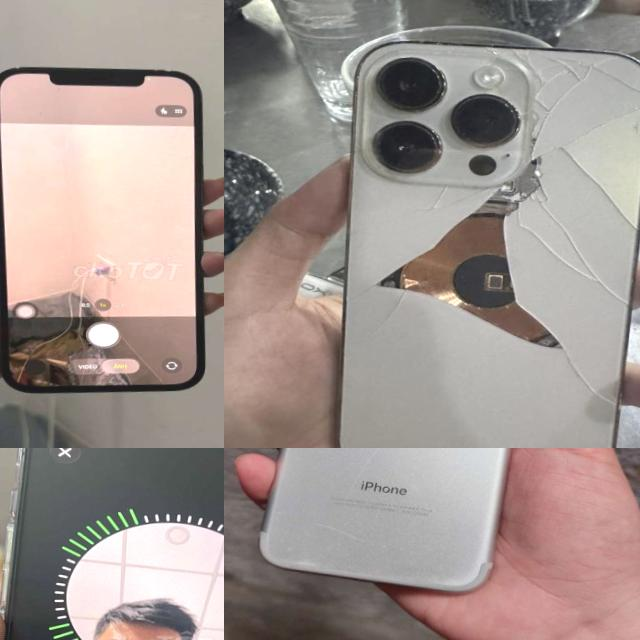physical_damage: (401, 212, 568, 350), (505, 164, 639, 306), (524, 85, 640, 167), (484, 45, 640, 85), (342, 284, 406, 350), (560, 346, 622, 406), (416, 185, 506, 215)
scratch: (337, 448, 451, 493), (300, 512, 390, 550), (287, 552, 328, 572)
